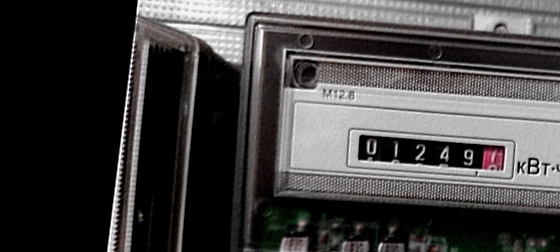0: (365, 136, 381, 157)
1: (390, 139, 402, 159)
2: (414, 142, 429, 163)
4: (439, 144, 452, 164)
7: (487, 145, 501, 165)
9: (462, 147, 477, 169)
screen: (338, 120, 517, 186)
